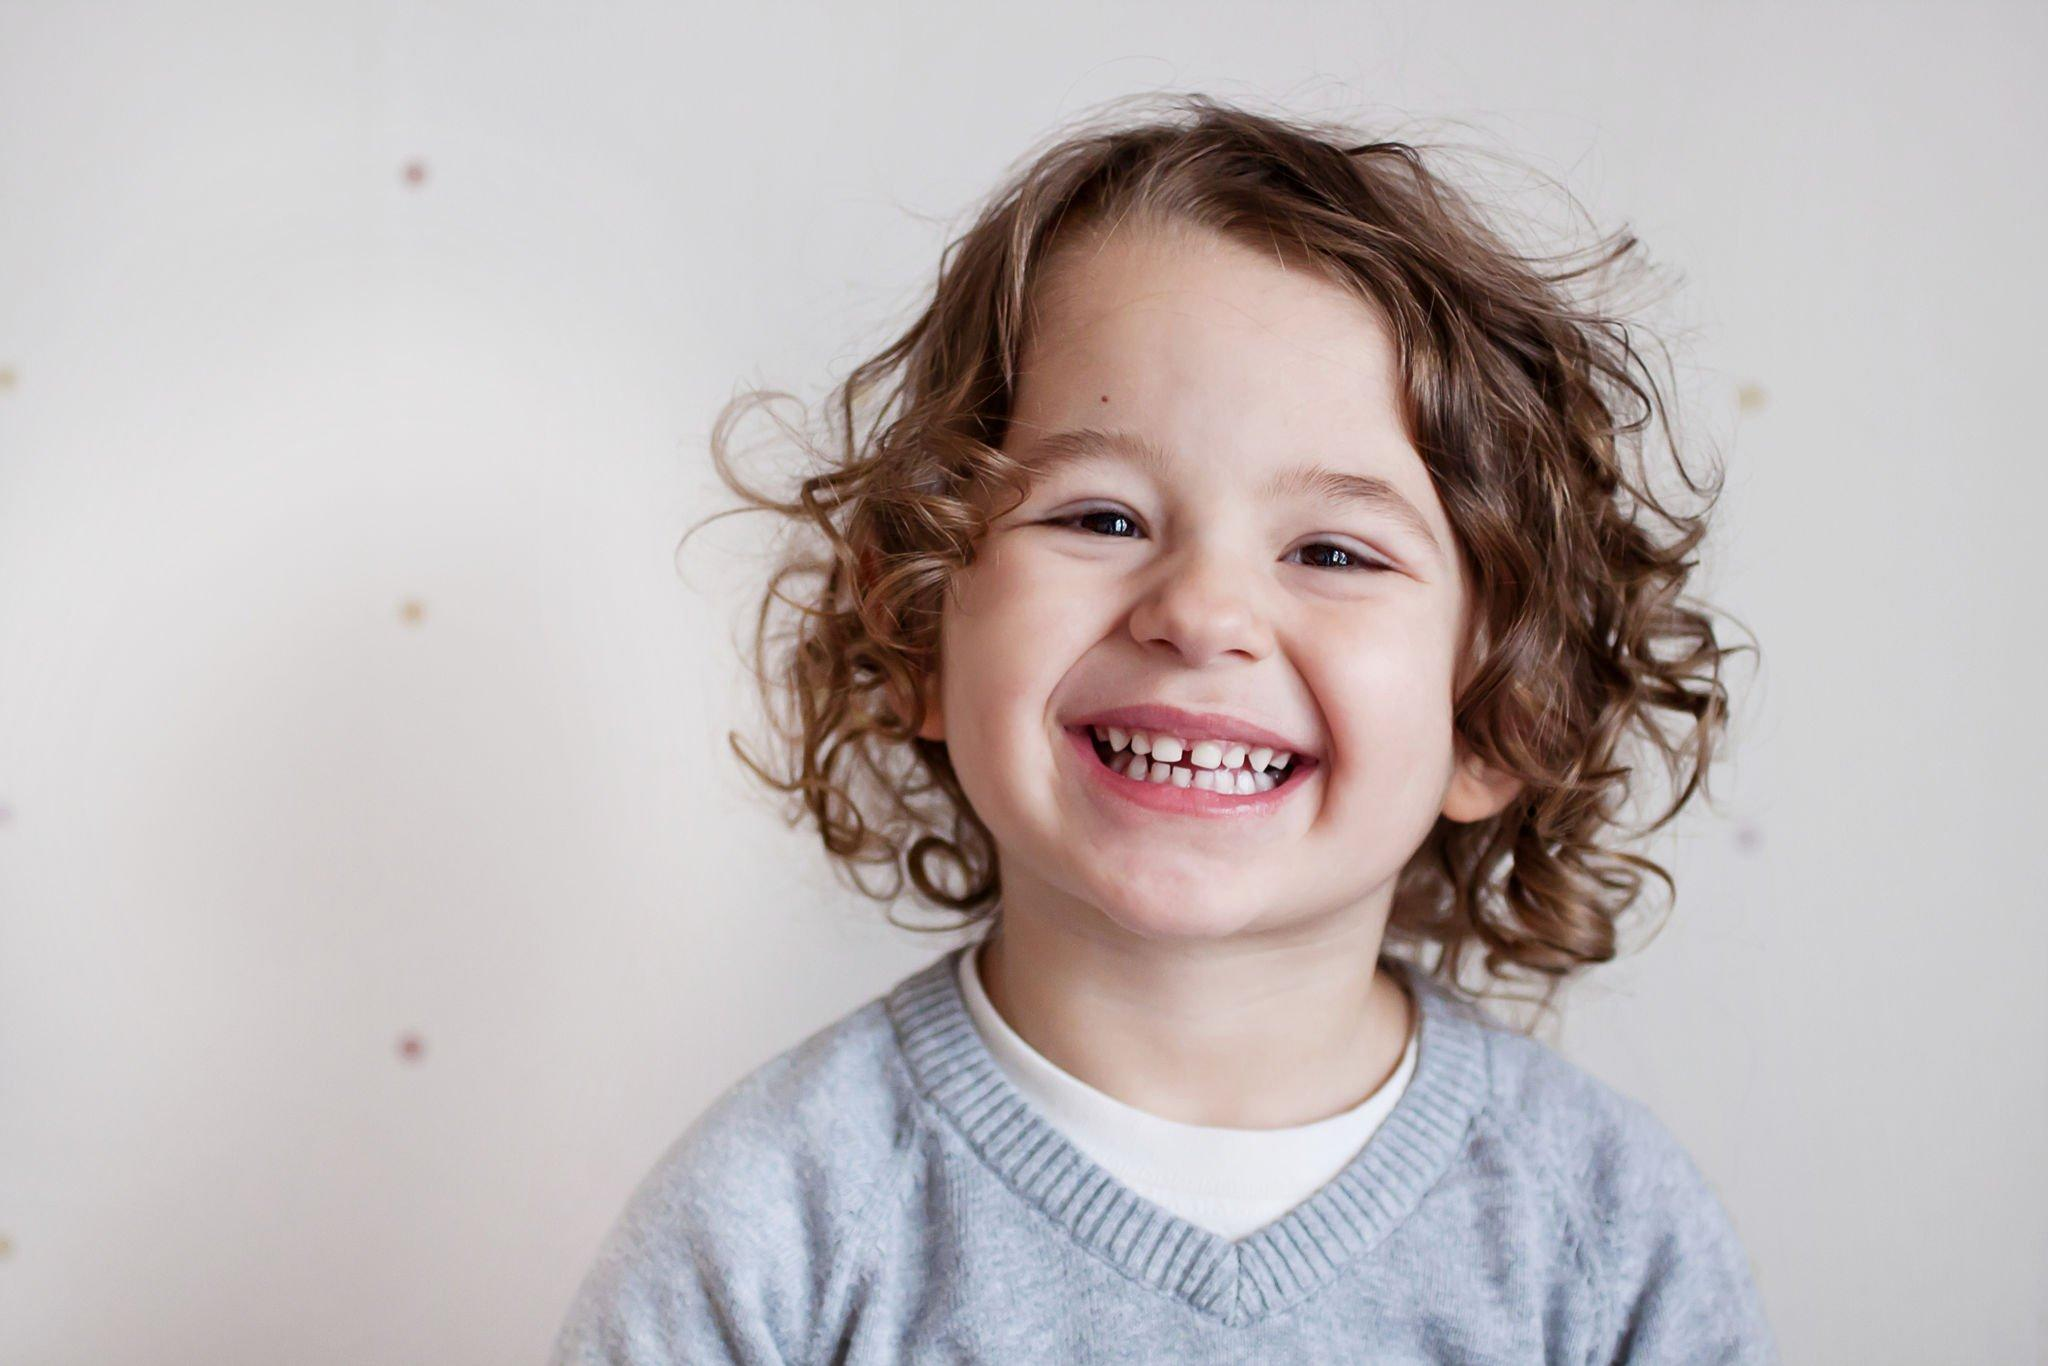Healthy: (922, 177, 1565, 1037)
